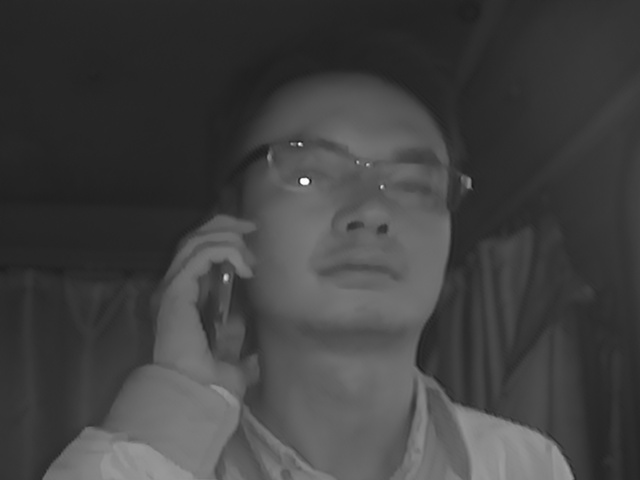hand: (144, 214, 265, 391)
